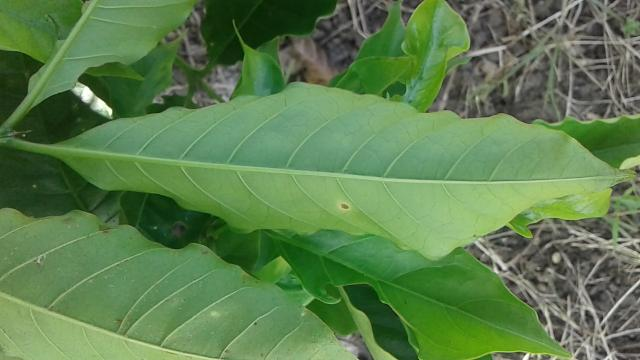rust_level_1: (53, 80, 640, 265)
